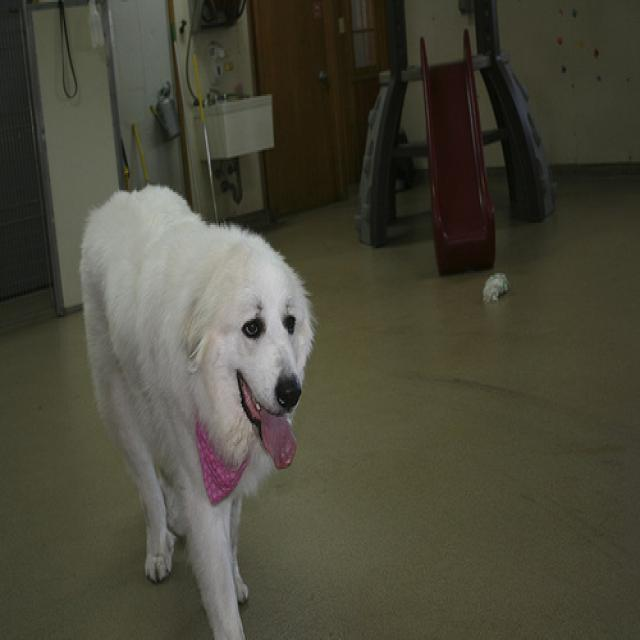dog-great_pyrenees: (72, 177, 321, 636)
